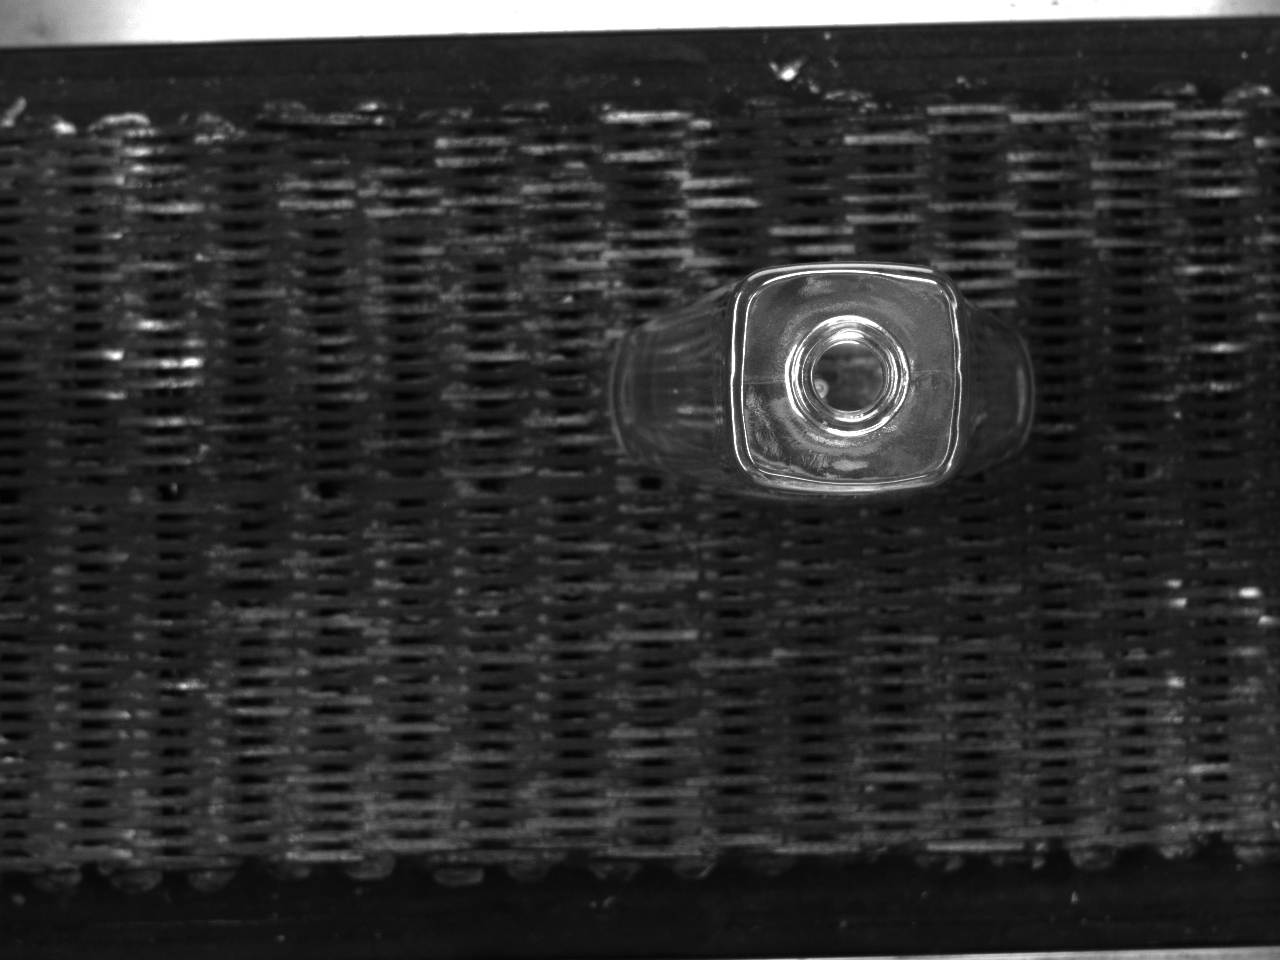bottleneck: (792, 315, 910, 437)
